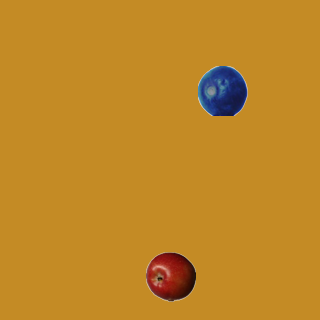Apple Braeburn: (145, 251, 195, 301)
Huckleberry: (197, 65, 247, 115)
